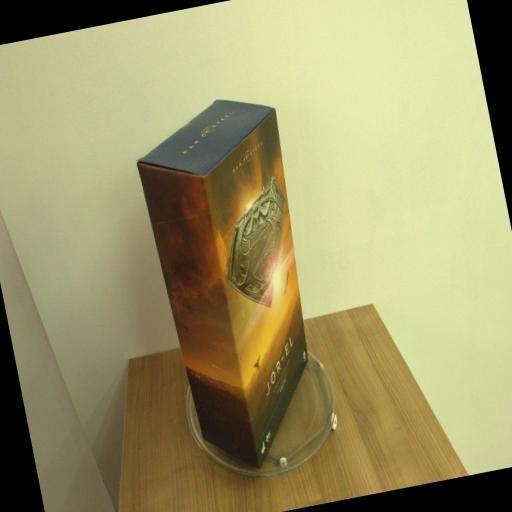superman: (128, 87, 342, 482)
